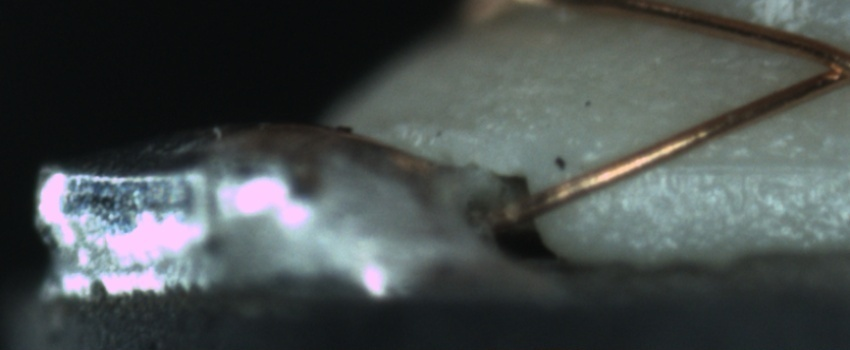CL: (799, 35, 849, 92)
DL: (626, 128, 848, 200)
